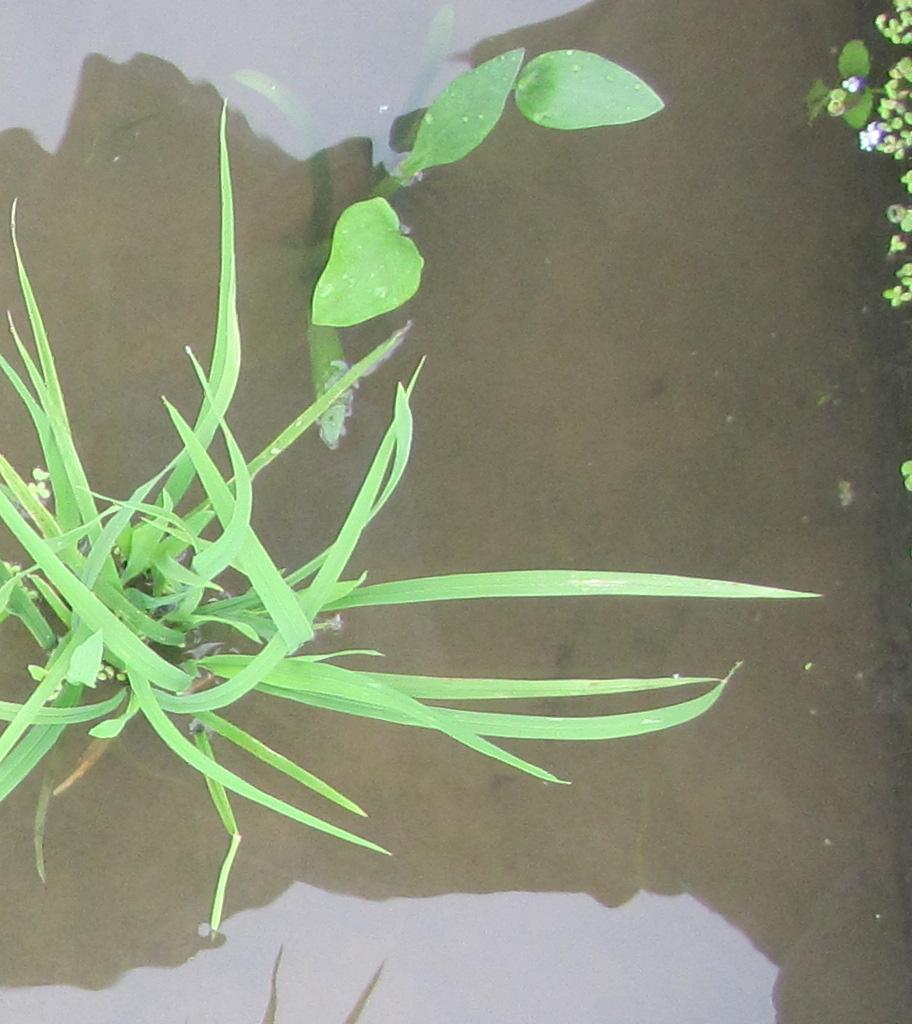Weed: (300, 35, 678, 358)
